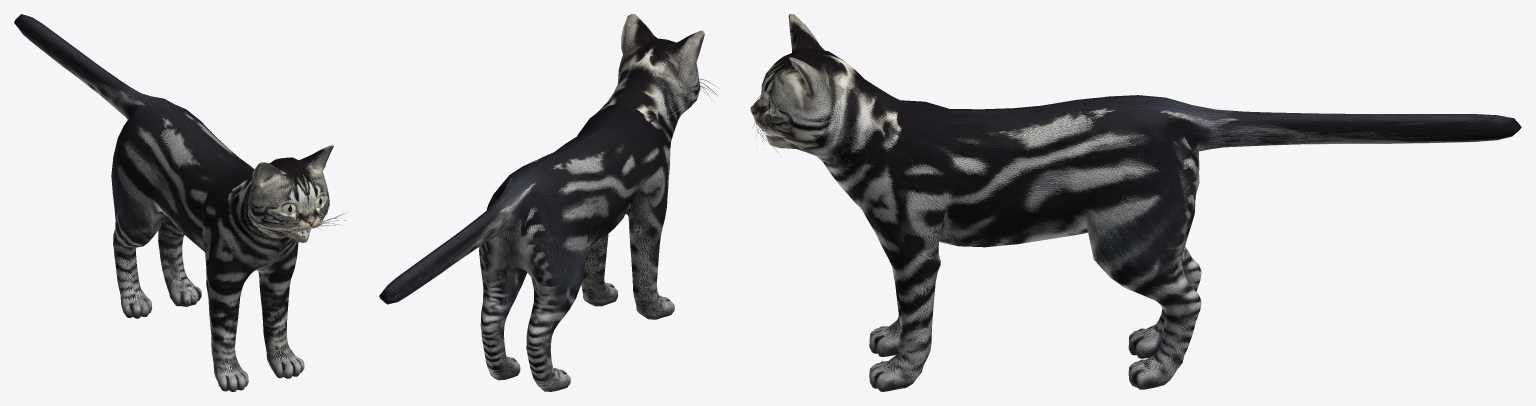
The picture shows the model from 3 angles, left to right: view 1: azimuth 30°, elevation 25°; view 2: azimuth 150°, elevation 25°; view 3: azimuth 270°, elevation 25°; orthographic projection. The views are drawn at different scales.
Parts seen in each view (by area): view 1: Mesh_0; view 2: Mesh_0; view 3: Mesh_0.
Part boxes in pixels (x1,y1,x2,y2): Mesh_0: (14, 14, 346, 391); Mesh_0: (379, 14, 717, 391); Mesh_0: (750, 14, 1521, 391).
Size of the model in its own units: 38.85 by 94.53 by 200.
Materials: 1 (1 with a texture image).
